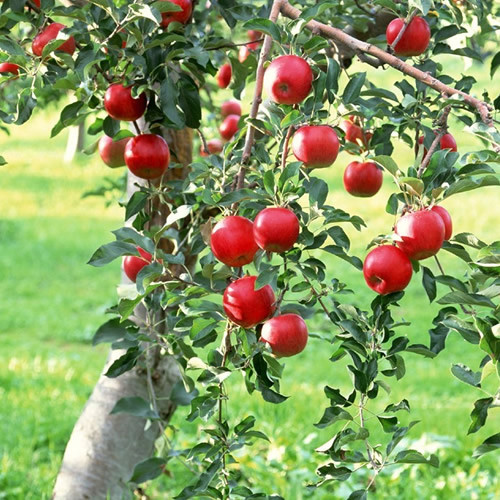apple: (222, 274, 275, 325), (395, 210, 445, 260), (363, 245, 412, 294), (210, 217, 260, 264), (265, 55, 312, 105), (253, 206, 300, 252), (292, 123, 338, 168), (124, 132, 170, 177), (262, 313, 308, 357), (343, 160, 385, 198)
obscured(1)_apple: (386, 13, 431, 56), (103, 81, 148, 118)
